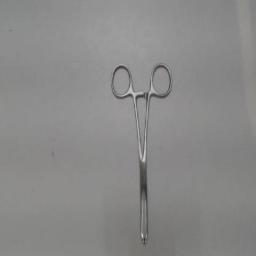Allis Tissue Forceps: (107, 59, 177, 249)
